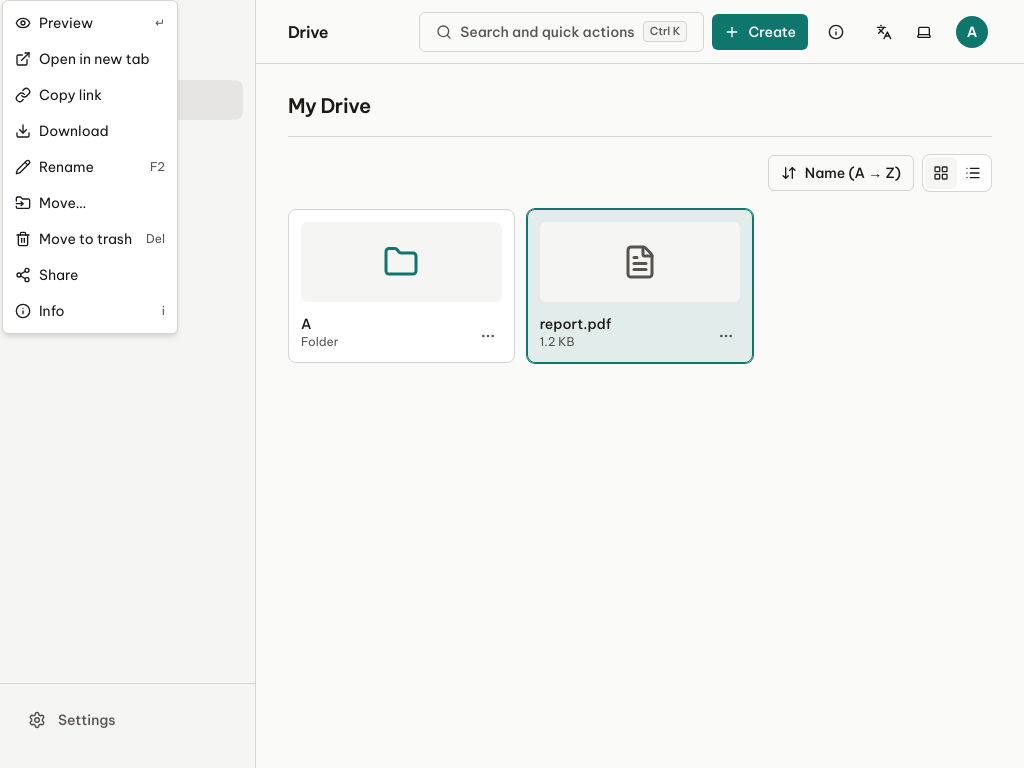
item menus › right click selects the item and offers its actions
The image size is (1024, 768).
Step 1. Click the menu item "Info i" → coordinates (23, 311), box [15, 302, 165, 320]
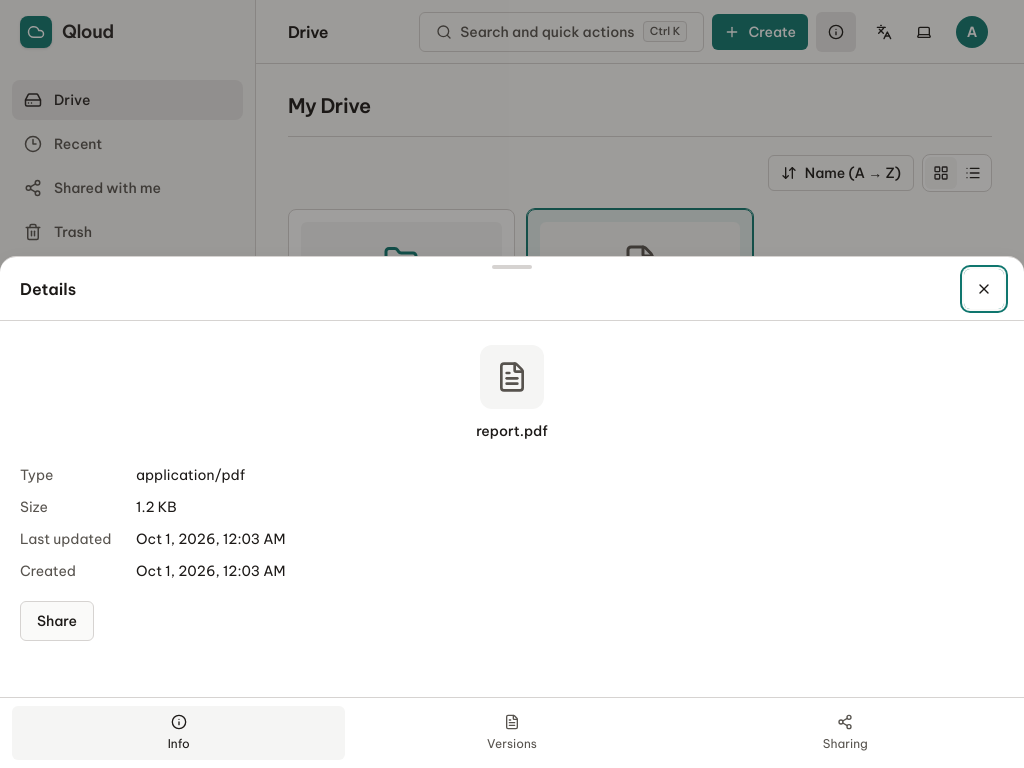
Check: the dialog "Details" is shown
